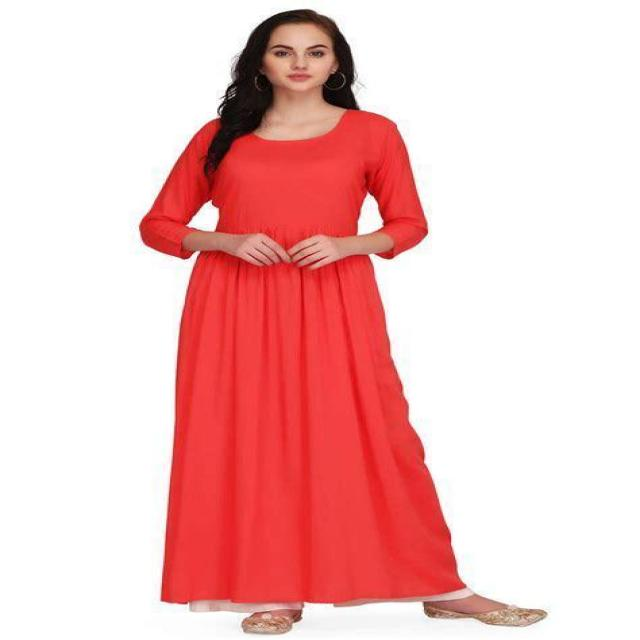dress: (140, 109, 468, 612)
